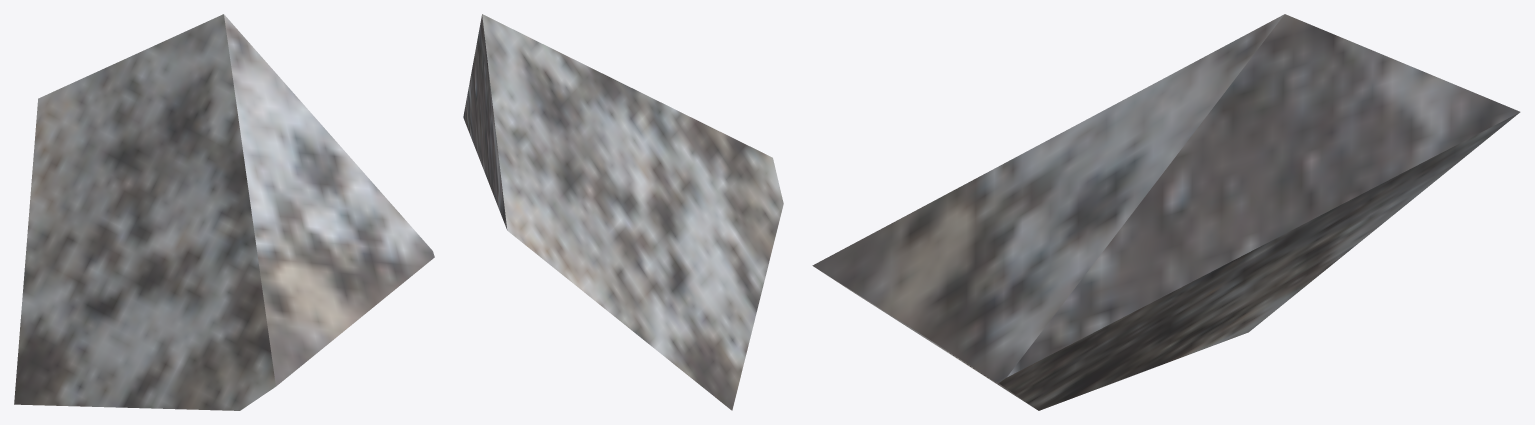
Rendered from Asteroid_Large_001_02_008_03_025.fbx.
3 renders of one model, left to right at view 1: azimuth 30°, elevation 25°; view 2: azimuth 150°, elevation 25°; view 3: azimuth 270°, elevation 25°, orthographic. The views are drawn at different scales.
Parts seen in each view (by area): view 1: Asteroid_Large_001_02_008_03_025; view 2: Asteroid_Large_001_02_008_03_025; view 3: Asteroid_Large_001_02_008_03_025.
Boxes of the visible parts, x1,y1,x2,y2 form: Asteroid_Large_001_02_008_03_025: (14,14,434,410); Asteroid_Large_001_02_008_03_025: (463,14,783,410); Asteroid_Large_001_02_008_03_025: (812,14,1520,410).
Size of the model in its own units: 2.24 by 2.09 by 2.82.
